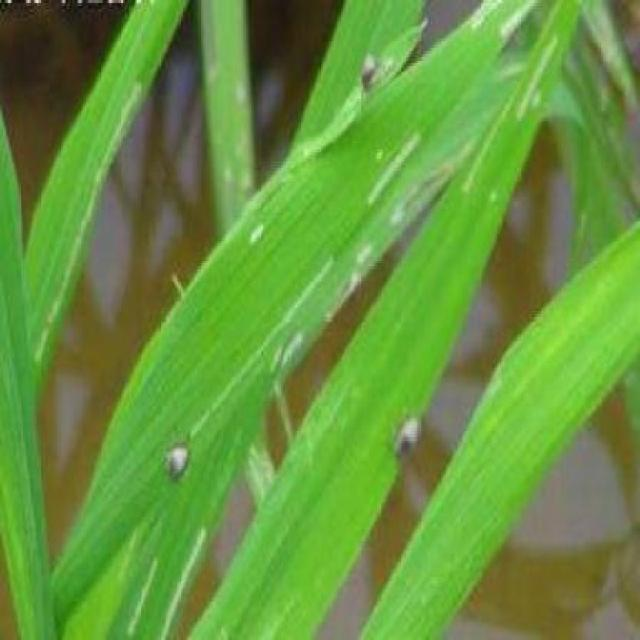rice-bug: (392, 412, 423, 459), (165, 435, 192, 483), (359, 51, 378, 89)
